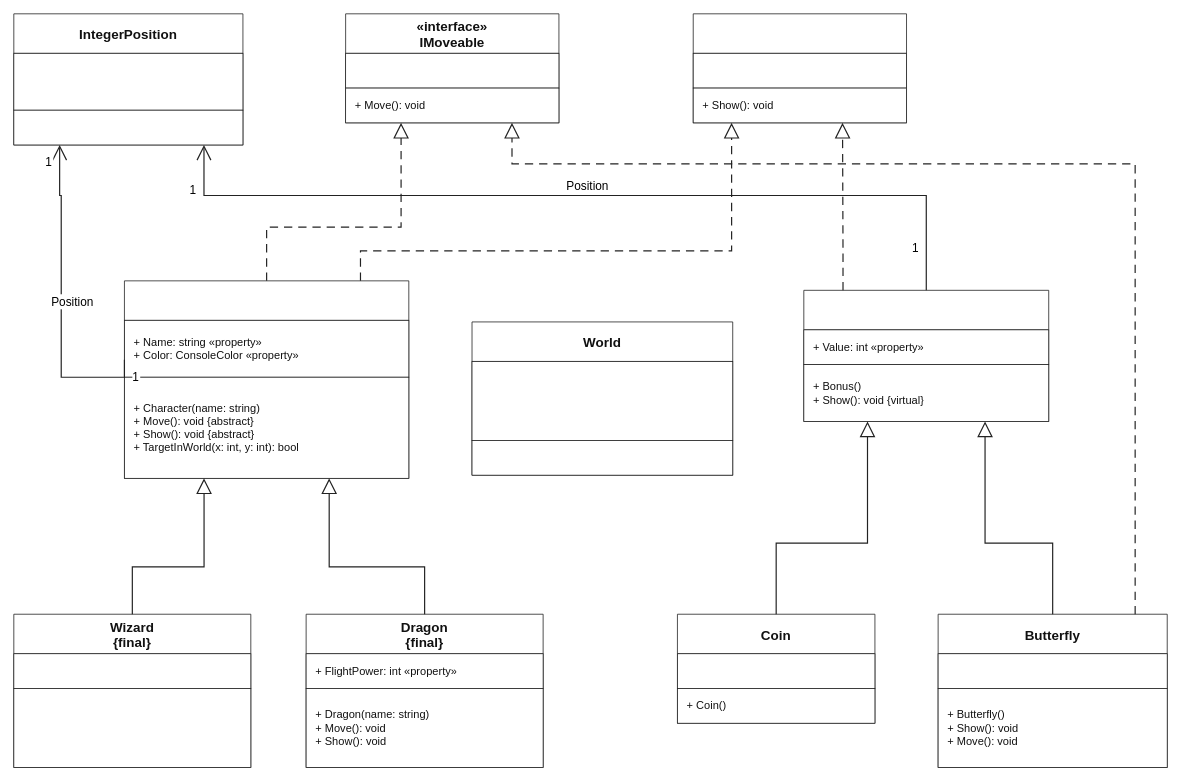
The diagram is 1181 pixels wide and 781 high, and some of its shapes have lost their labels. The shapes that lost their labels are listed below. From the top down, each one's box as (x1, y1, x2, y2) in pixels, then its label:
(13, 53, 243, 110): + X: int «property» + Y: int «property»
(692, 13, 907, 123): «interface» IShowable
(13, 109, 243, 145): + IntegerPosition()
(803, 290, 1049, 421): Bonus {abstract}
(124, 280, 409, 478): Character {abstract}
(471, 361, 733, 440): + HEIGHT: int {const} + WIDTH: int {const} + random: Random {static}
(13, 653, 251, 688): + MagicPower: int «property»
(13, 688, 251, 767): + Wizard(name: string) + Move(): void + Show(): void
